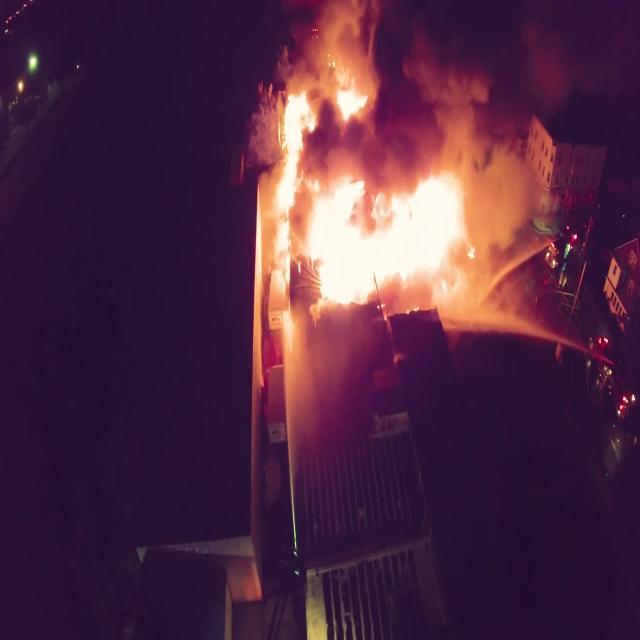Fire: (268, 84, 476, 329)
Smoke: (265, 0, 566, 251)
